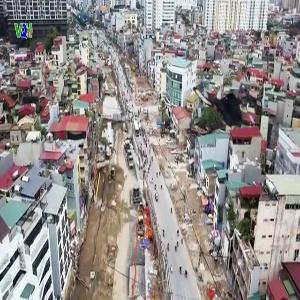drone: (182, 60, 269, 147)
